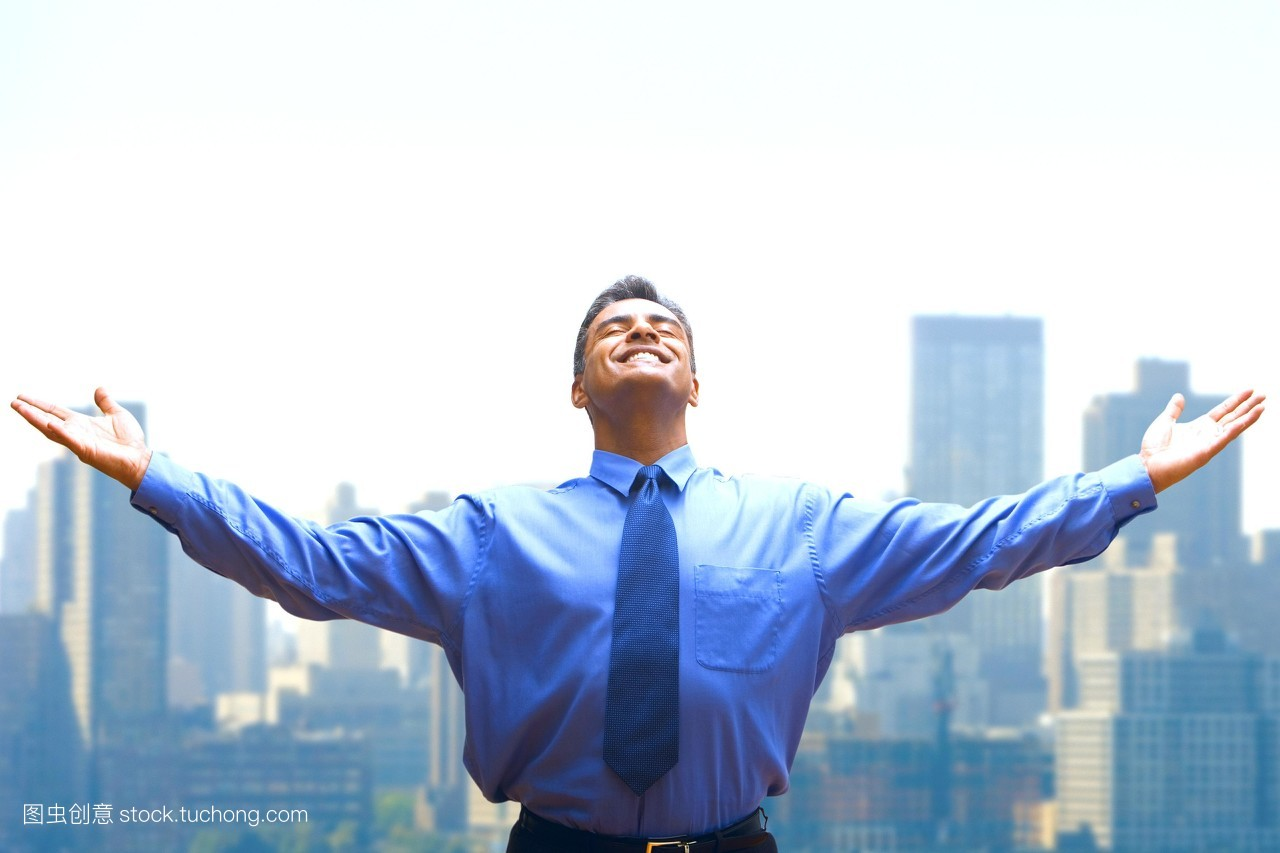handsup: (11, 279, 1275, 844)
